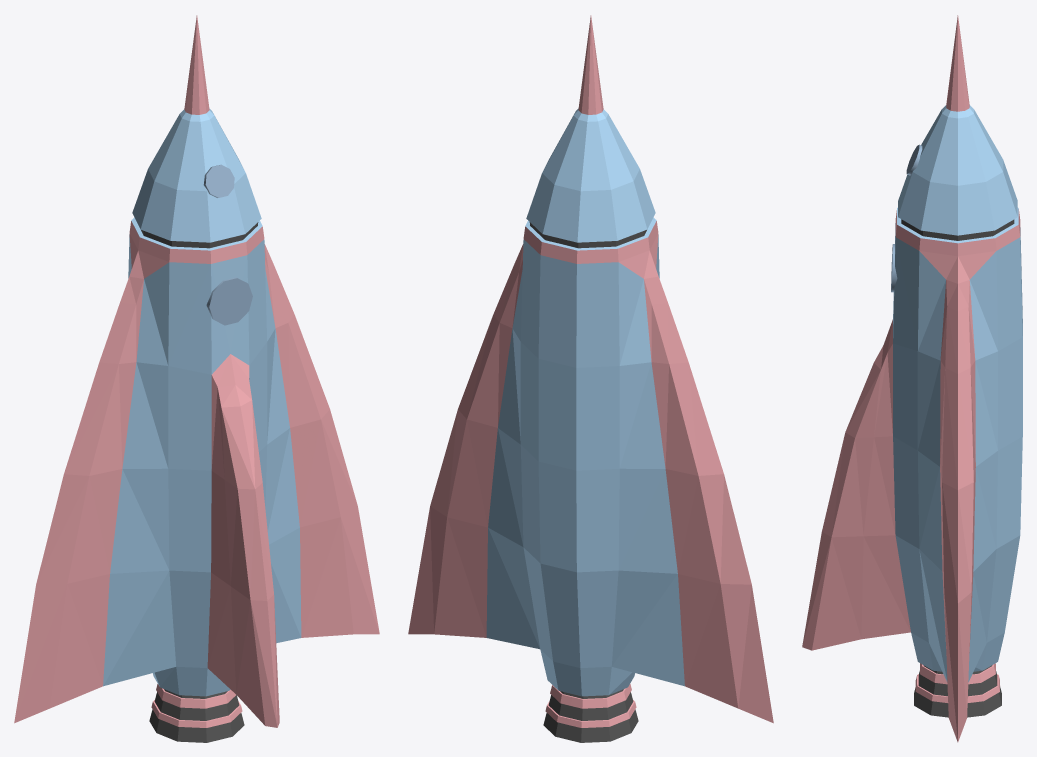
The model's file is player.DAE.
The picture shows the model from 3 angles, left to right: view 1: azimuth 30°, elevation 25°; view 2: azimuth 150°, elevation 25°; view 3: azimuth 270°, elevation 25°; orthographic projection. The views are drawn at different scales.
Visible parts, largest first — view 1: Main, Cylinder002, Cylinder001; view 2: Main; view 3: Main.
Part boxes in pixels (x1,y1,x2,y2): Main: (14,15,379,742); Cylinder002: (206,277,252,325); Cylinder001: (203,164,234,197); Main: (408,15,773,742); Main: (802,15,1022,742).
Size of the model in its own units: 18.78 by 34.8 by 10.15.
